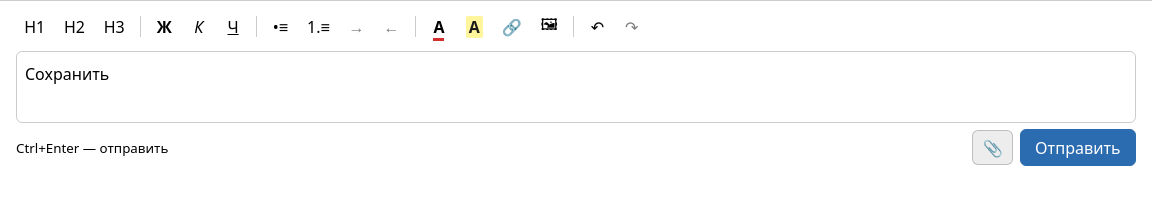
Test: composer (code review TS-1) › the main process asks for the drafts: the waiting changes are saved, then it is told
Click the button with test id "attach": click(993, 148) x1=972 y1=130 x2=1013 y2=165
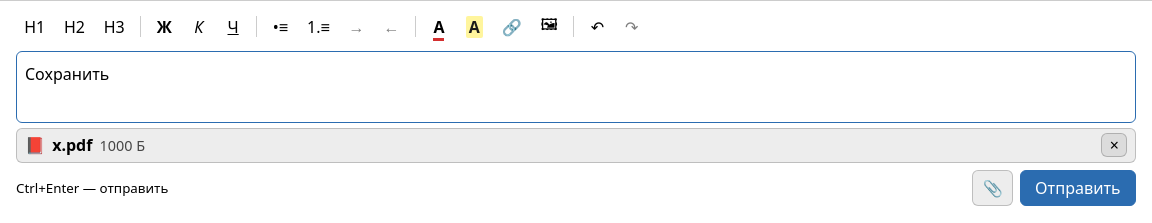
Now the number of list items with test id "draft-file" is 1, box x1=16 y1=128 x2=1136 y2=163
